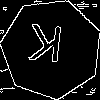K: (26, 23, 65, 72)
